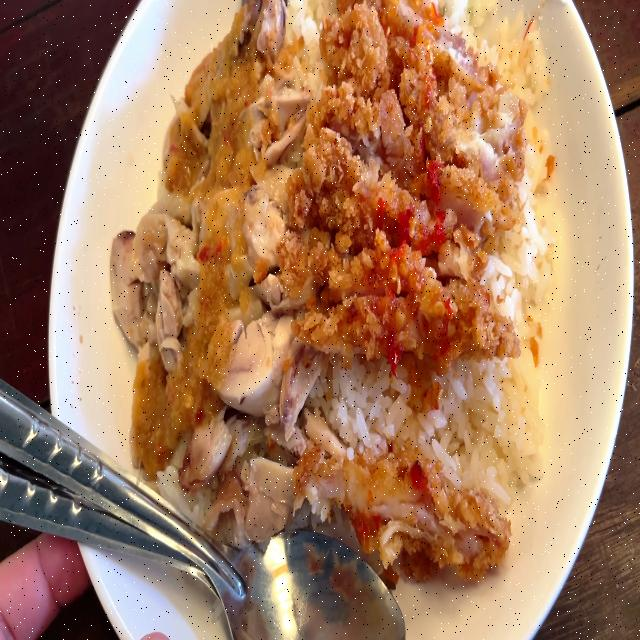boiled_chicken: (111, 0, 308, 466)
chicken_rice: (114, 0, 557, 585)
fried_chicken: (304, 0, 532, 355), (302, 442, 499, 572)
